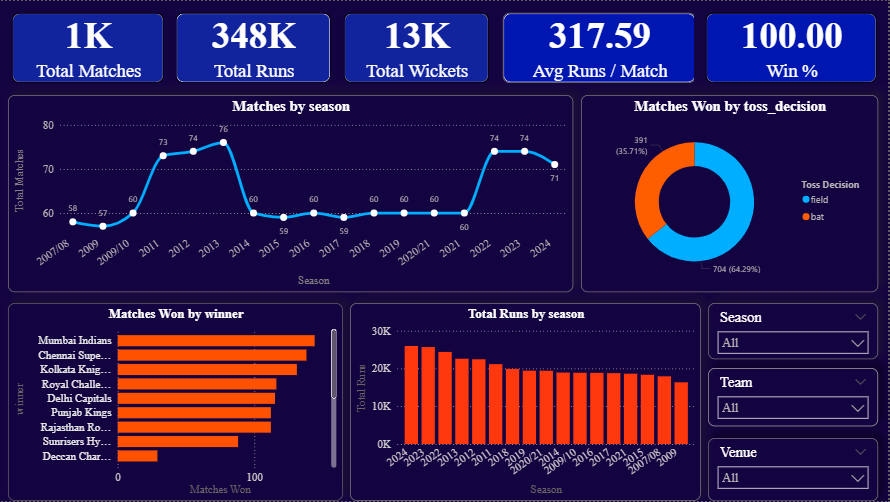

The dashboard page shown, as its layout file describes it:
{"tool":"powerbi","page":{"name":"Dashboard Overview","canvas":[1280,720],"ordinal":0},"visuals":[{"type":"cardVisual","fields":{"Data":["deliveries.Total Wickets"]},"box":[478.1,0,243.4,135.4],"z":0},{"type":"cardVisual","fields":{"Data":["matches.Avg Runs per Match"]},"box":[707,0,312.5,135.4],"z":1000},{"type":"cardVisual","fields":{"Data":["matches.Win %"]},"box":[999.4,0,280.8,135.4],"z":2000},{"type":"cardVisual","fields":{"Data":["deliveries.Total Runs"]},"box":[236.2,0,257.8,135.4],"z":3000},{"type":"cardVisual","fields":{"Data":["matches.Total Matches"]},"box":[0,0,253.4,135.4],"z":4000},{"type":"lineChart","title":"Matches by season","fields":{"Category":["matches.season"],"Y":["matches.Total Matches"]},"box":[11.5,135.4,813.6,283.7],"z":5000},{"type":"clusteredBarChart","fields":{"Y":["matches.Matches Won"],"Category":["matches.winner"]},"box":[11.5,434.9,482.4,285.1],"z":6000},{"type":"donutChart","fields":{"Category":["matches.toss_decision"],"Y":["matches.Matches Won"]},"box":[836.6,135.4,427.7,283.7],"z":7000},{"type":"slicer","fields":{"Values":["matches.season"]},"box":[1019.5,434.9,244.8,80.6],"z":8000},{"type":"slicer","fields":{"Values":["matches.winner"]},"box":[1019.5,528.5,244.8,83.5],"z":9000},{"type":"slicer","fields":{"Values":["matches.venue"]},"box":[1019.5,629.3,244.8,90.7],"z":10000},{"type":"columnChart","fields":{"Category":["matches.season"],"Y":["deliveries.Total Runs"]},"box":[504,434.9,505.4,285.1],"z":11000}]}

Visuals, with their boxes in screenshot pixels (x1, y1, x2, y2), scaled from the page's 1280x720 canvas onto the 890x502 screenshot:
cardVisual - deliveries.Total Wickets: {"x1": 332, "y1": 0, "x2": 502, "y2": 94}
cardVisual - matches.Avg Runs per Match: {"x1": 492, "y1": 0, "x2": 709, "y2": 94}
cardVisual - matches.Win %: {"x1": 695, "y1": 0, "x2": 889, "y2": 94}
cardVisual - deliveries.Total Runs: {"x1": 164, "y1": 0, "x2": 343, "y2": 94}
cardVisual - matches.Total Matches: {"x1": 0, "y1": 0, "x2": 176, "y2": 94}
"Matches by season" lineChart: {"x1": 8, "y1": 94, "x2": 574, "y2": 292}
clusteredBarChart - matches.Matches Won x matches.winner: {"x1": 8, "y1": 303, "x2": 343, "y2": 501}
donutChart - matches.toss_decision x matches.Matches Won: {"x1": 582, "y1": 94, "x2": 879, "y2": 292}
slicer - matches.season: {"x1": 709, "y1": 303, "x2": 879, "y2": 359}
slicer - matches.winner: {"x1": 709, "y1": 368, "x2": 879, "y2": 427}
slicer - matches.venue: {"x1": 709, "y1": 439, "x2": 879, "y2": 501}
columnChart - matches.season x deliveries.Total Runs: {"x1": 350, "y1": 303, "x2": 702, "y2": 501}
